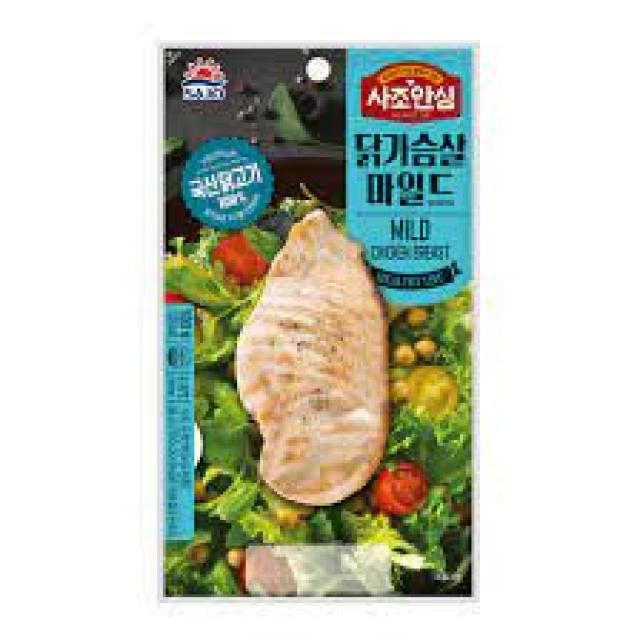chicken: (230, 210, 418, 515)
